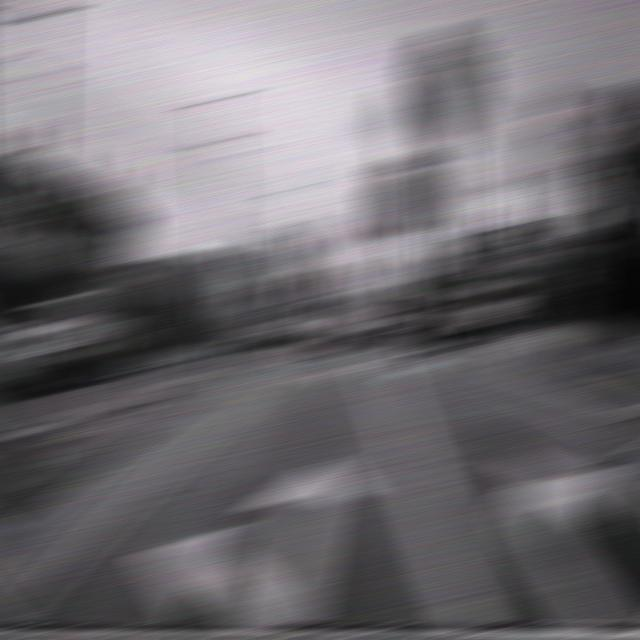stop_sign: (242, 228, 292, 278)
